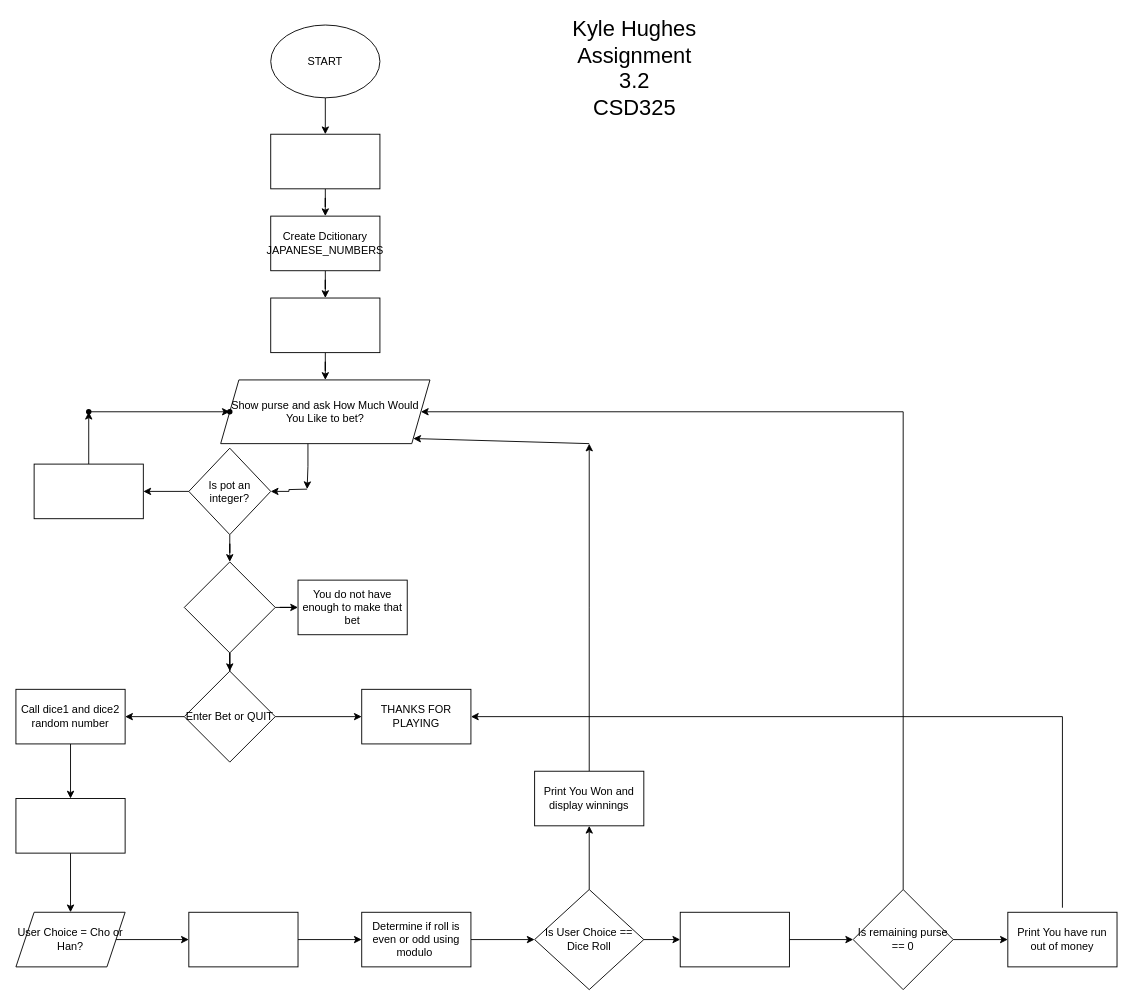
This 1133x1006 diagram has some shape labels left out. The shapes that lost their labels are listed below. From the top down, each one's centre as x and y in pixels, then its label:
At (325,161): "Import random and sys libraries".
At (325,325): "PRINT Welcome Message".
At (88,491): "Print Please enter a number".
At (229,607): "Is bet > than purse?".
At (70,825): "Print Dealer swirls cup...".
At (243,939): "Print Japanese Numbers and regular integers".
At (734,939): "You Lost".
